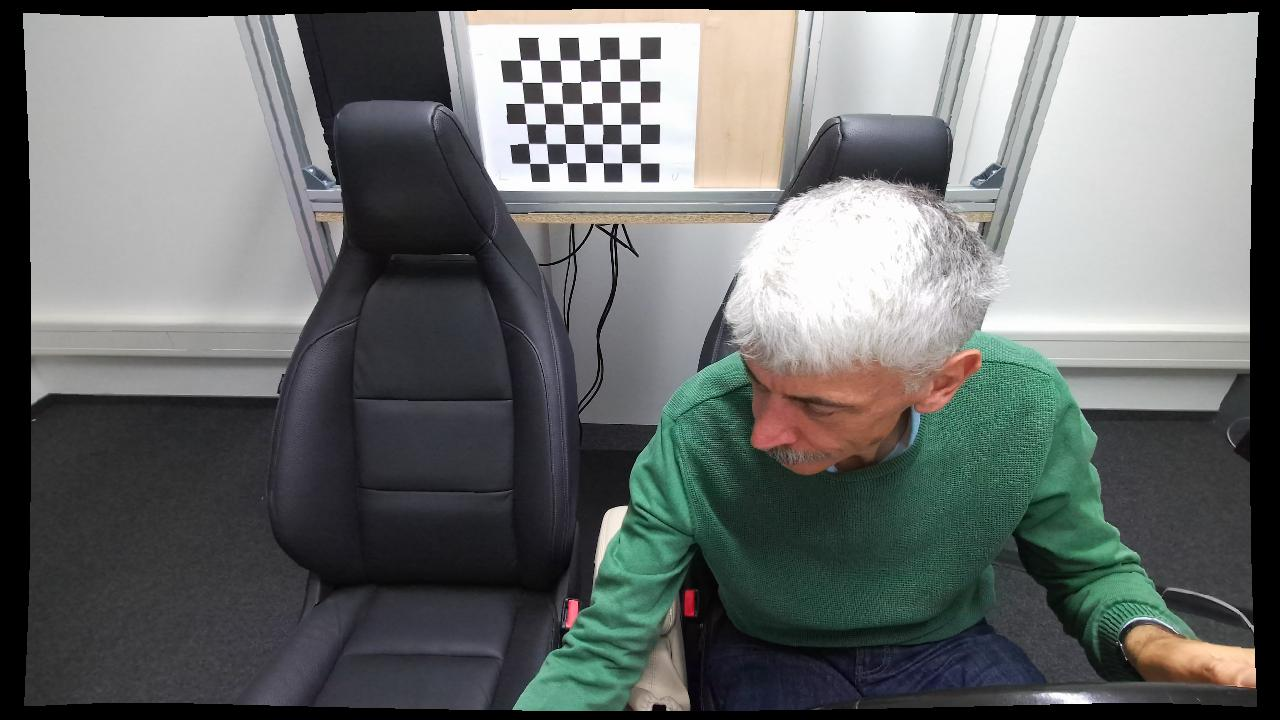Distracted: (513, 174, 1166, 708)
